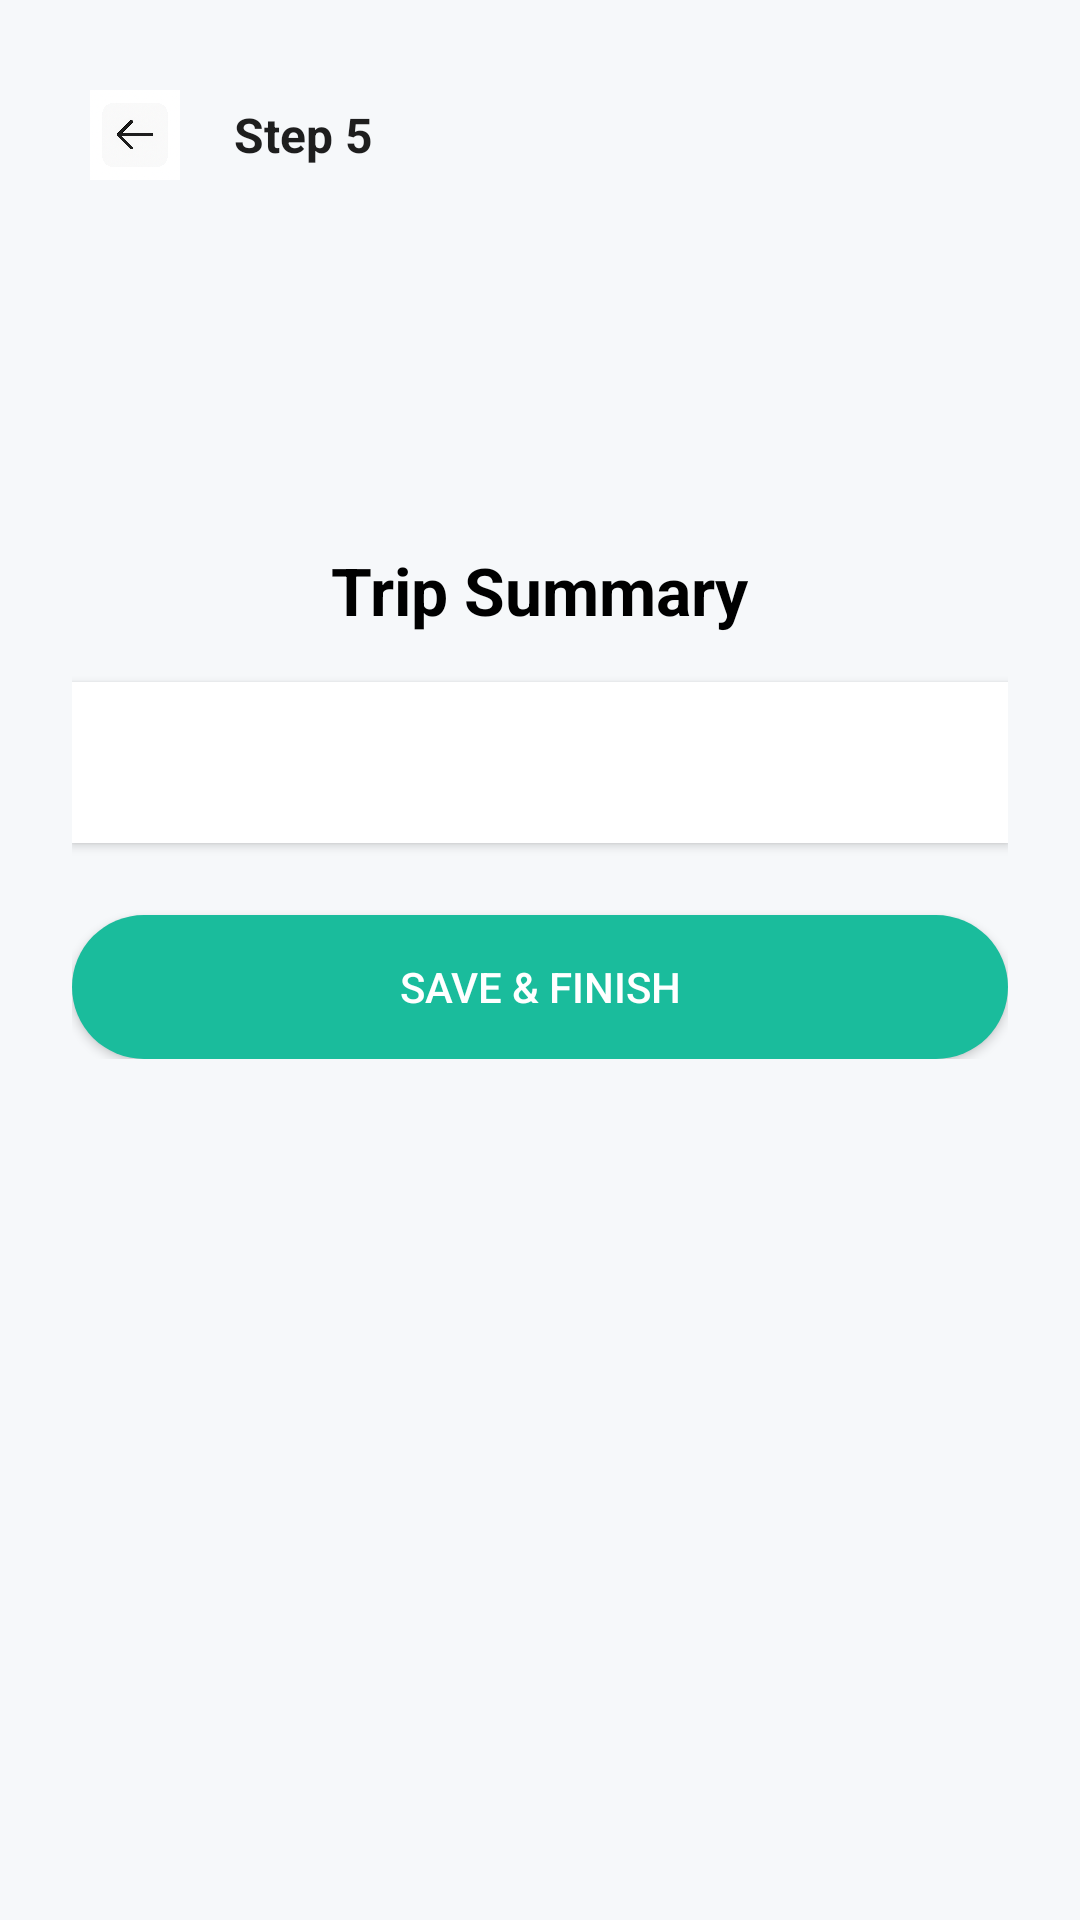

Named icons in this screenshot (1080w x 1920h) and their centers, [x,y]:
Back: [135,134]
